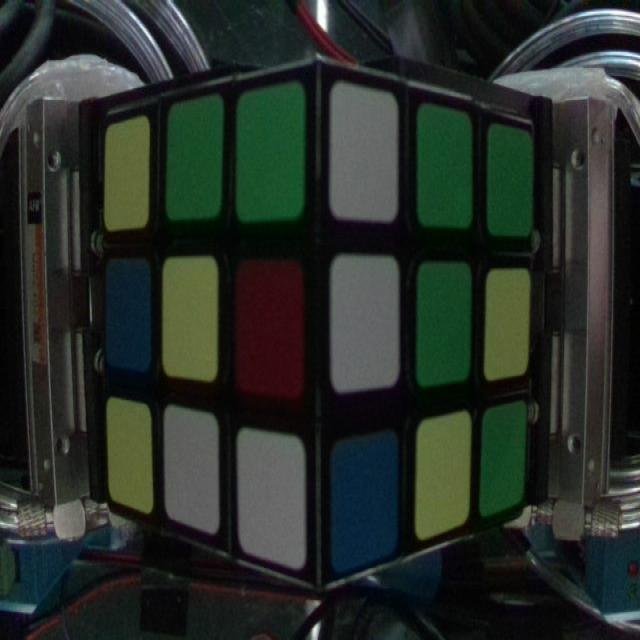b: (332, 435, 398, 564), (101, 254, 153, 371)
g: (238, 84, 300, 215), (419, 104, 474, 220), (420, 264, 474, 382), (170, 108, 220, 212), (481, 402, 525, 516), (488, 125, 532, 236)
r: (238, 260, 308, 395)
w: (237, 426, 311, 569), (330, 84, 401, 218), (332, 256, 401, 386), (163, 406, 220, 531)
y: (161, 257, 219, 377), (414, 414, 472, 533), (480, 270, 534, 380), (106, 399, 155, 506), (104, 126, 152, 230)
